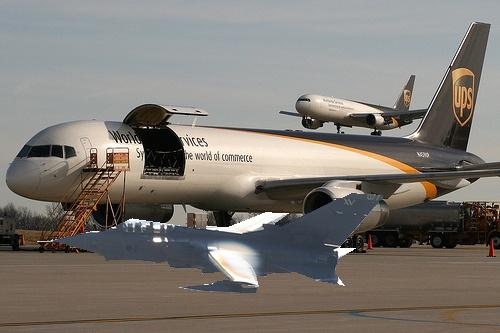tampered: (38, 194, 383, 293)
